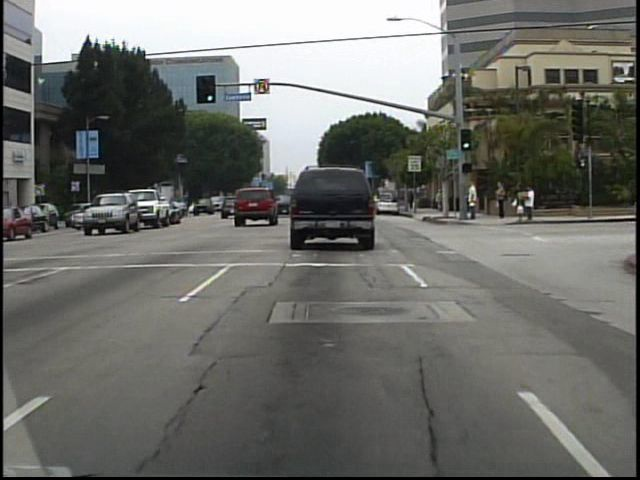person: (465, 177, 481, 223), (495, 178, 511, 222), (432, 186, 446, 215), (409, 186, 416, 212)
